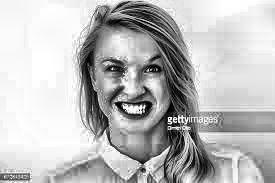happy: (85, 21, 177, 138)
